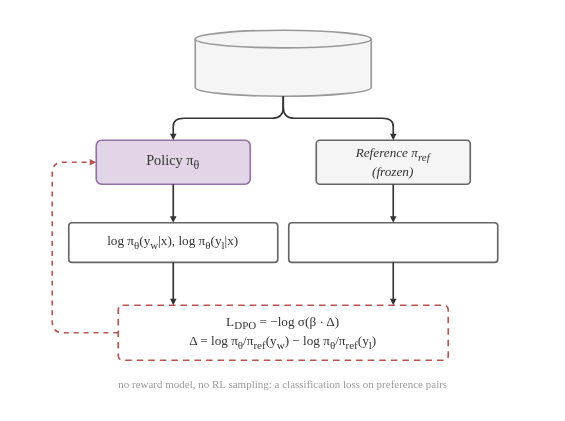
Image size: 565x421. Some labels were removed from this diagram. The box of each missing label's shape, as (x1, y1, x2, y2) in pixels:
log π ref (y w |x), log π ref (y l |x): (287, 221, 498, 263)
Preference data (x, y w , y l ): (194, 29, 372, 97)
